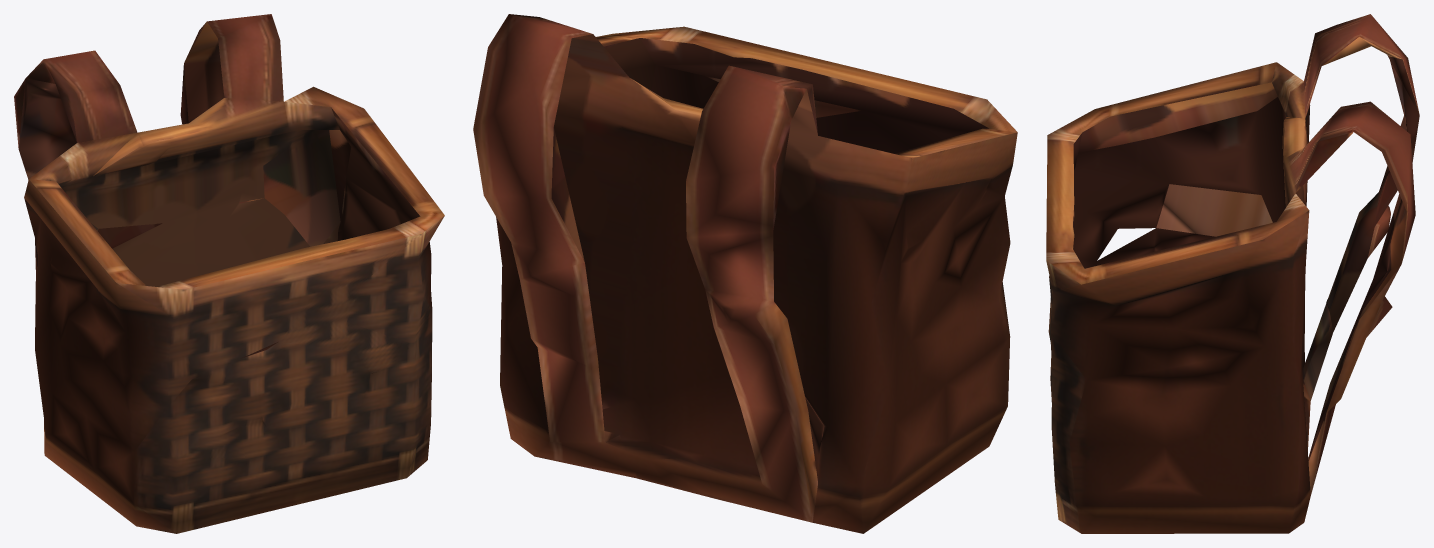
Rendered from canasta_acarreo.glb.
3 renders of one model, left to right at view 1: azimuth 30°, elevation 25°; view 2: azimuth 150°, elevation 25°; view 3: azimuth 270°, elevation 25°, orthographic. The views are drawn at different scales.
Visible parts, largest first — view 1: geometry_0; view 2: geometry_0; view 3: geometry_0.
Boxes of the visible parts, <box> form: geometry_0: <box>14,14,444,533</box>; geometry_0: <box>473,14,1017,533</box>; geometry_0: <box>1046,14,1419,533</box>.
Bounding box in the file's own units: 0.4224 × 0.45 × 0.3873.
Materials: 1 (1 with a texture image).
